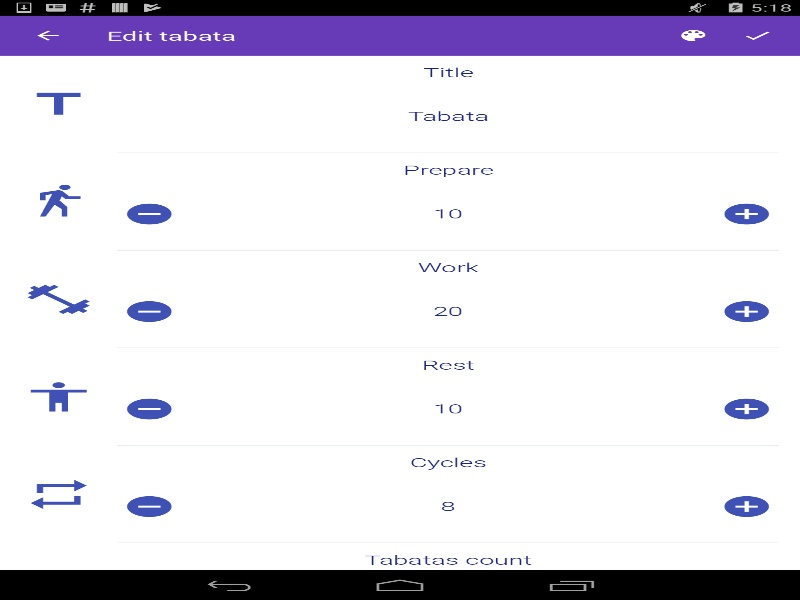Button: (10, 15, 85, 55), (117, 199, 181, 229), (714, 199, 778, 229), (117, 296, 181, 326), (714, 296, 778, 326), (117, 394, 181, 424), (714, 394, 778, 424), (117, 491, 181, 521), (714, 491, 778, 521)
Input: (117, 80, 778, 153), (202, 177, 693, 250), (202, 275, 693, 348), (202, 372, 693, 445), (202, 470, 693, 543)
